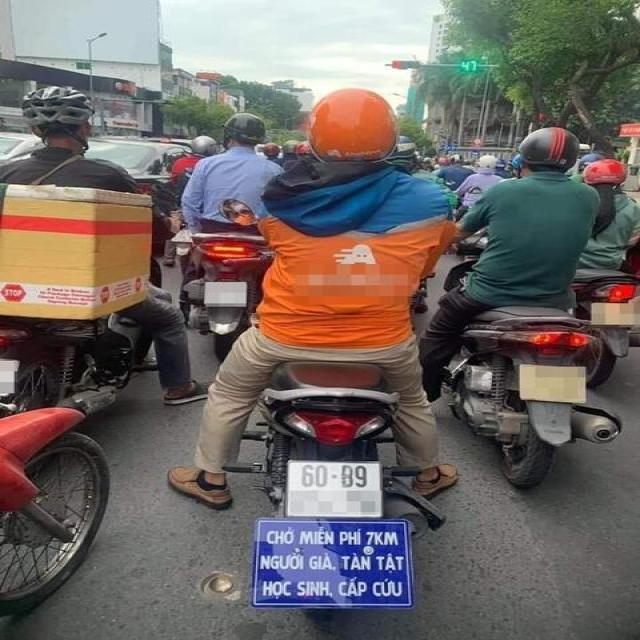helmet: (516, 126, 581, 171)
